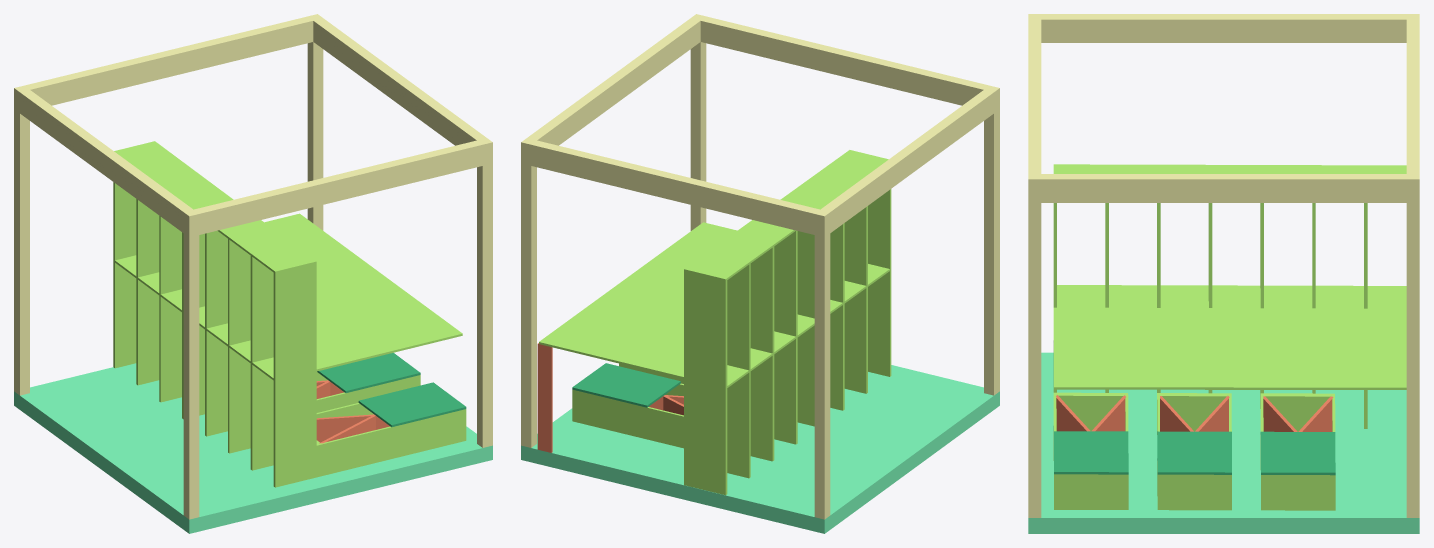
3 renders of one model, left to right at view 1: azimuth 30°, elevation 25°; view 2: azimuth 150°, elevation 25°; view 3: azimuth 270°, elevation 25°, orthographic. The views are drawn at different scales.
Parts seen in each view (by area): view 1: 物件_33, 物件_2, 物件_40, 物件_39, 物件_11, 物件_22, 物件_38, 物件_36, 物件_41, 物件_34, 物件_10, 物件_25 (+21 smaller); view 2: 物件_33, 物件_2, 物件_39, 物件_40, 物件_11, 物件_38, 物件_37, 物件_41, 物件_35, 物件_3, 物件_32, 物件_36 (+19 smaller); view 3: 物件_2, 物件_33, 物件_41, 物件_38, 物件_21, 物件_34, 物件_35, 物件_14, 物件_22, 物件_18, 物件_11, 物件_19 (+11 smaller).
Part boxes in pixels (left/top/right/bottom): 物件_33: left=14, top=363, right=492, bottom=533; 物件_2: left=264, top=213, right=462, bottom=371; 物件_40: left=184, top=139, right=491, bottom=236; 物件_39: left=14, top=14, right=321, bottom=110; 物件_11: left=114, top=141, right=316, bottom=273; 物件_22: left=316, top=403, right=466, bottom=477; 物件_38: left=14, top=89, right=199, bottom=236; 物件_36: left=183, top=209, right=199, bottom=519; 物件_41: left=308, top=15, right=492, bottom=154; 物件_34: left=477, top=139, right=492, bottom=447; 物件_10: left=273, top=263, right=316, bottom=379; 物件_25: left=273, top=371, right=316, bottom=487; 物件_33: left=521, top=365, right=999, bottom=533; 物件_2: left=539, top=222, right=737, bottom=379; 物件_39: left=521, top=138, right=829, bottom=236; 物件_40: left=692, top=14, right=999, bottom=105; 物件_11: left=684, top=150, right=888, bottom=281; 物件_38: left=814, top=89, right=999, bottom=236; 物件_37: left=814, top=209, right=830, bottom=519; 物件_41: left=521, top=15, right=700, bottom=164; 物件_35: left=521, top=138, right=536, bottom=447; 物件_3: left=684, top=271, right=727, bottom=387; 物件_32: left=684, top=379, right=727, bottom=495; 物件_36: left=984, top=87, right=999, bottom=395; 物件_2: left=1053, top=307, right=1406, bottom=389; 物件_33: left=1028, top=352, right=1419, bottom=533; 物件_41: left=1028, top=174, right=1419, bottom=202; 物件_38: left=1028, top=14, right=1419, bottom=42; 物件_21: left=1057, top=285, right=1406, bottom=307; 物件_34: left=1028, top=174, right=1041, bottom=517; 物件_35: left=1406, top=174, right=1419, bottom=517; 物件_14: left=1260, top=393, right=1335, bottom=510; 物件_22: left=1053, top=392, right=1128, bottom=509; 物件_18: left=1157, top=393, right=1231, bottom=510; 物件_11: left=1053, top=164, right=1406, bottom=173; 物件_19: left=1157, top=431, right=1231, bottom=474.
Bounding box in the file's own units: 48 × 48 × 48.01.
